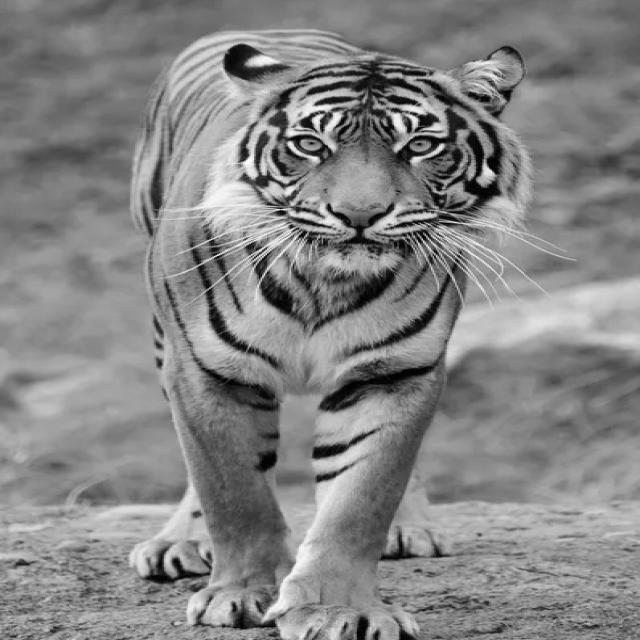Animal: (127, 27, 525, 640)
